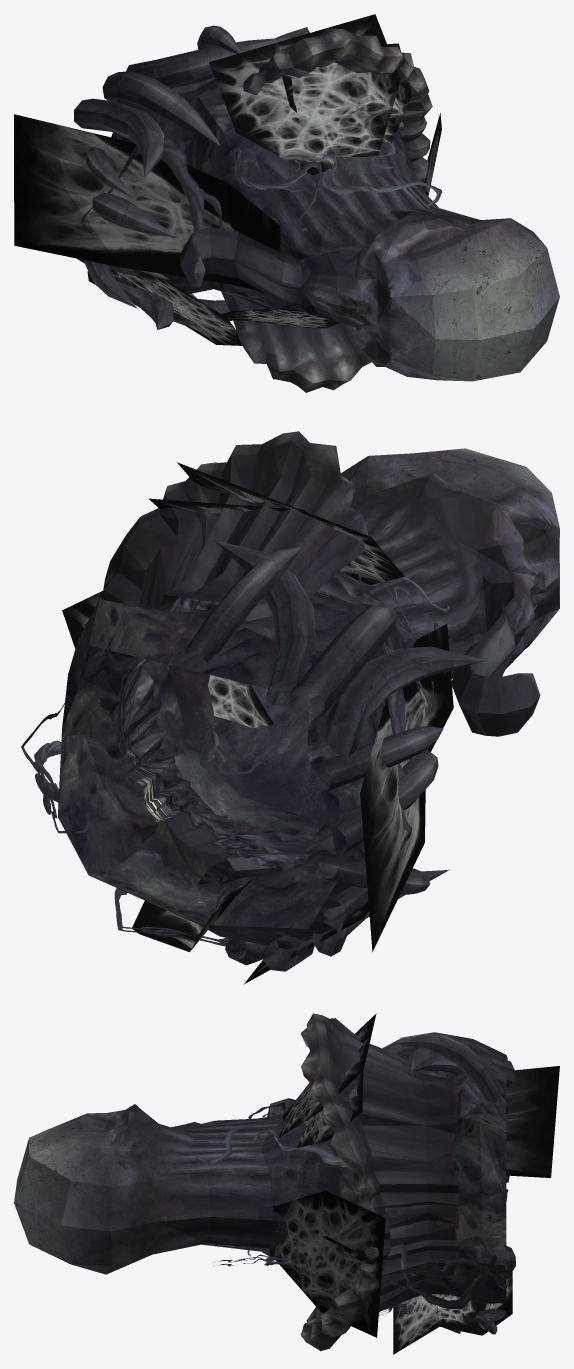
Rendered from huodong_fuben_653__diaoxiangzhu.obj.
3 renders of one model, top to bottom at view 1: azimuth 30°, elevation 25°; view 2: azimuth 150°, elevation 25°; view 3: azimuth 270°, elevation 25°, orthographic. The views are drawn at different scales.
Parts seen in each view (by area): view 1: huodong_fuben_653__diaoxiangzhu; view 2: huodong_fuben_653__diaoxiangzhu; view 3: huodong_fuben_653__diaoxiangzhu.
Boxes of the visible parts, x1=… form: huodong_fuben_653__diaoxiangzhu: x1=14, y1=14, x2=559, y2=392; huodong_fuben_653__diaoxiangzhu: x1=21, y1=431, x2=559, y2=984; huodong_fuben_653__diaoxiangzhu: x1=14, y1=1013, x2=559, y2=1354.
Bounding box in the file's own units: 212 × 223 × 332.
Materials: 5 (5 with a texture image).
